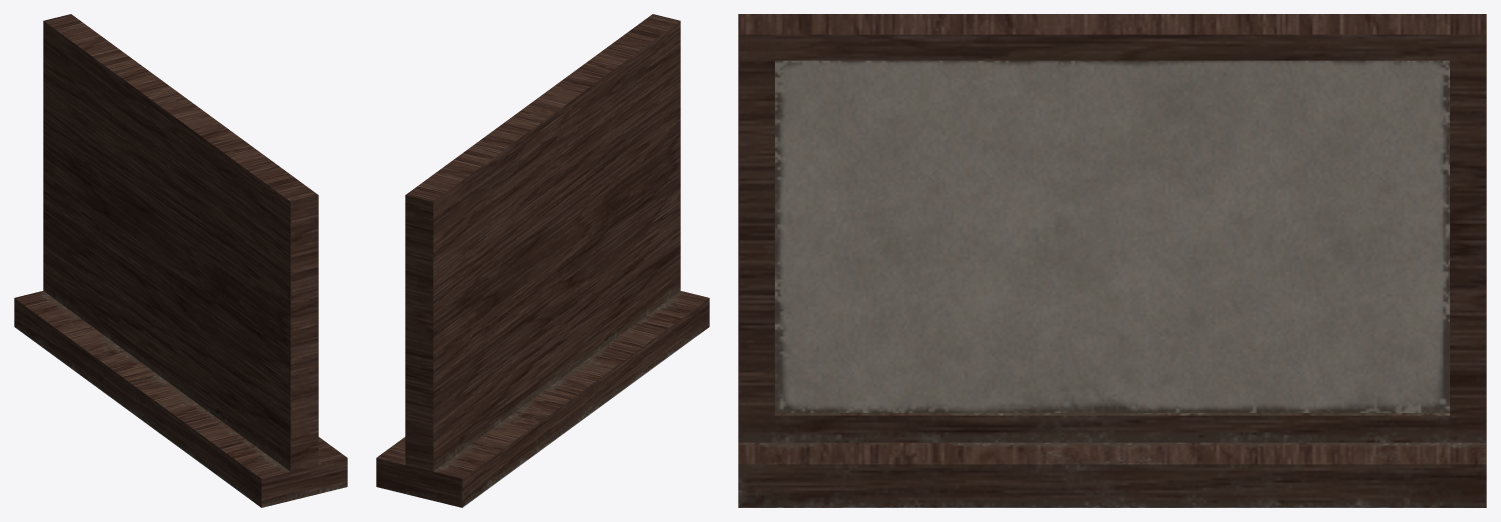
Rendered from Stereopsis_part1.gltf.
3 views of the same model, side by side, from view 1: azimuth 30°, elevation 25°; view 2: azimuth 150°, elevation 25°; view 3: azimuth 270°, elevation 25° (orthographic). The views are drawn at different scales.
Visible parts, largest first — view 1: PartLeft.001; view 2: PartLeft.001; view 3: PartLeft.001.
Boxes of the visible parts, left/top/right/bottom form: PartLeft.001: left=14, top=14, right=347, bottom=507; PartLeft.001: left=376, top=14, right=709, bottom=507; PartLeft.001: left=738, top=14, right=1486, bottom=507.
Bounding box in the file's own units: 0.1124 × 0.3724 × 0.5586.
1 material, 1 textured.
